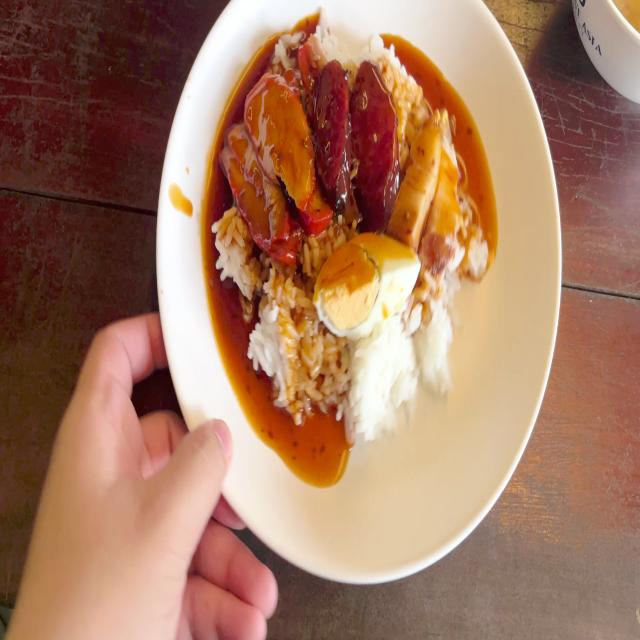boiled_egg: (309, 236, 411, 330)
chainese_sausage: (312, 59, 397, 220)
crispy_pork: (395, 111, 457, 265)
red_pork: (222, 79, 314, 248)
red_pork_and_crispy_pork: (210, 11, 490, 437)
rice: (239, 269, 311, 415), (320, 330, 411, 432), (410, 278, 448, 393), (214, 212, 254, 303)
